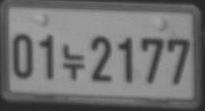0: (12, 33, 33, 78)
1: (115, 37, 138, 83), (37, 33, 58, 79)
2: (90, 35, 113, 82)
7: (140, 36, 165, 83), (167, 38, 191, 84)
누: (62, 42, 85, 81)
